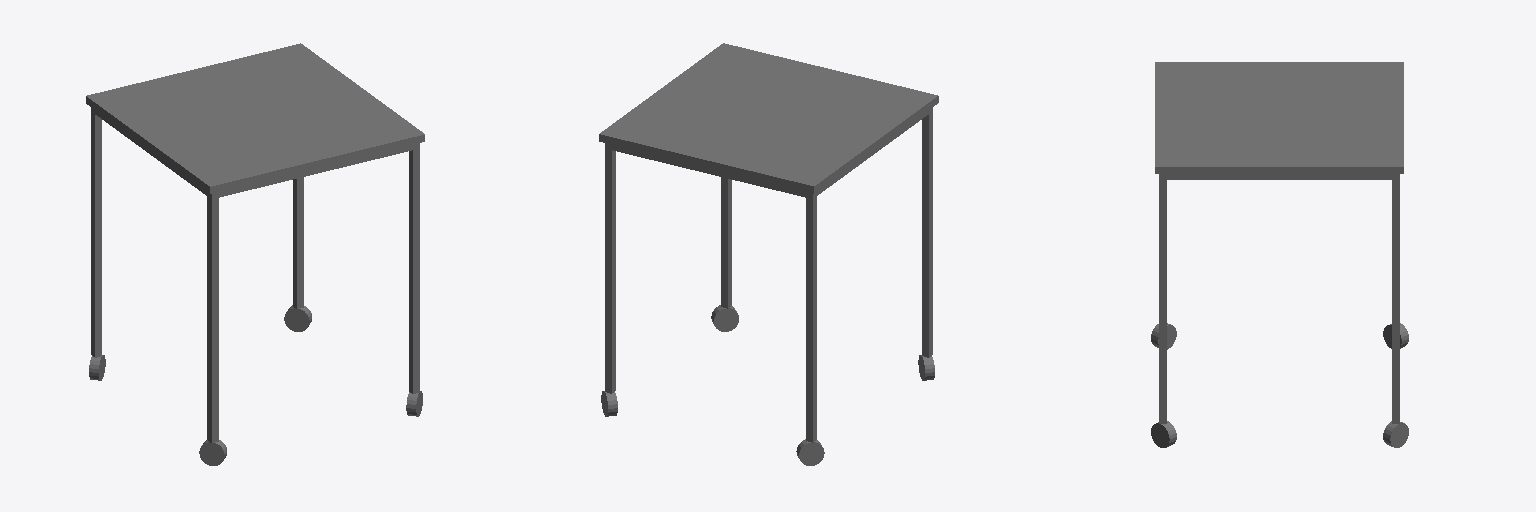
File: table2.obj
The picture shows the model from 3 angles: view 1: azimuth 30°, elevation 25°; view 2: azimuth 150°, elevation 25°; view 3: azimuth 270°, elevation 25°; orthographic projection.
Visible parts, largest first — view 1: pCube1 polySurface1, pCube5 table polySurface1, pCube4 table polySurface1, pCube2 table polySurface1, pCube3 table polySurface1, pCube8 table polySurface1, wheel polySurface1, wheel2 polySurface1; view 2: pCube1 polySurface1, pCube2 table polySurface1, pCube3 table polySurface1, pCube5 table polySurface1, pCube4 table polySurface1, pCube9 table polySurface1, wheel1 polySurface1, wheel3 polySurface1; view 3: pCube1 polySurface1, pCube4 table polySurface1, pCube3 table polySurface1, pCube7 table polySurface1, wheel3 polySurface1, wheel polySurface1.
Boxes of the visible parts, box(x1,y1,x2,y2) form: pCube1 polySurface1: box(86, 43, 424, 193); pCube5 table polySurface1: box(207, 192, 218, 442); pCube4 table polySurface1: box(409, 143, 419, 393); pCube2 table polySurface1: box(91, 107, 101, 357); pCube3 table polySurface1: box(293, 177, 303, 308); pCube8 table polySurface1: box(219, 145, 412, 197); wheel polySurface1: box(284, 305, 311, 331); wheel2 polySurface1: box(199, 440, 226, 465); pCube1 polySurface1: box(599, 43, 938, 193); pCube2 table polySurface1: box(806, 192, 816, 442); pCube3 table polySurface1: box(605, 143, 615, 393); pCube5 table polySurface1: box(922, 107, 932, 357); pCube4 table polySurface1: box(721, 177, 731, 308); pCube9 table polySurface1: box(608, 144, 806, 197); wheel1 polySurface1: box(796, 439, 824, 465); wheel3 polySurface1: box(711, 305, 738, 331); pCube1 polySurface1: box(1155, 62, 1403, 173); pCube4 table polySurface1: box(1159, 174, 1166, 423); pCube3 table polySurface1: box(1392, 174, 1399, 423); pCube7 table polySurface1: box(1165, 174, 1394, 179); wheel3 polySurface1: box(1151, 421, 1176, 447); wheel polySurface1: box(1383, 421, 1408, 447).
Bounding box in the file's own units: 63.4 × 76.43 × 63.32.